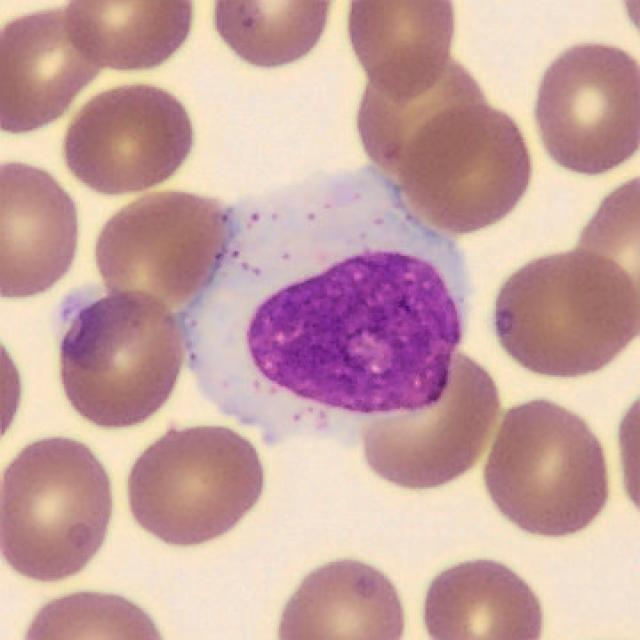Linfocito atipico: (178, 174, 466, 444)
